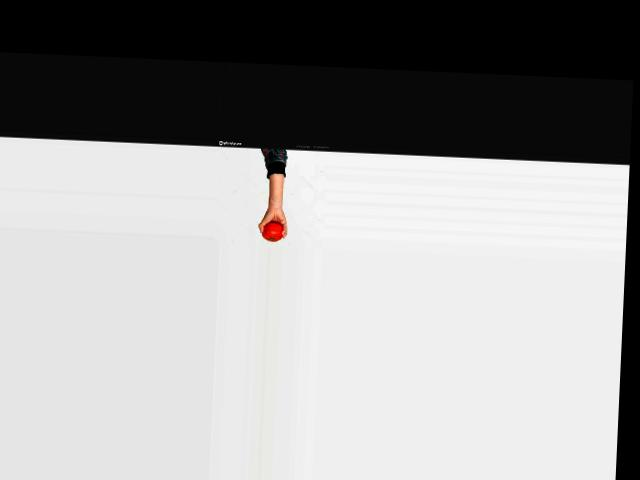tomato: (262, 220, 284, 242)
